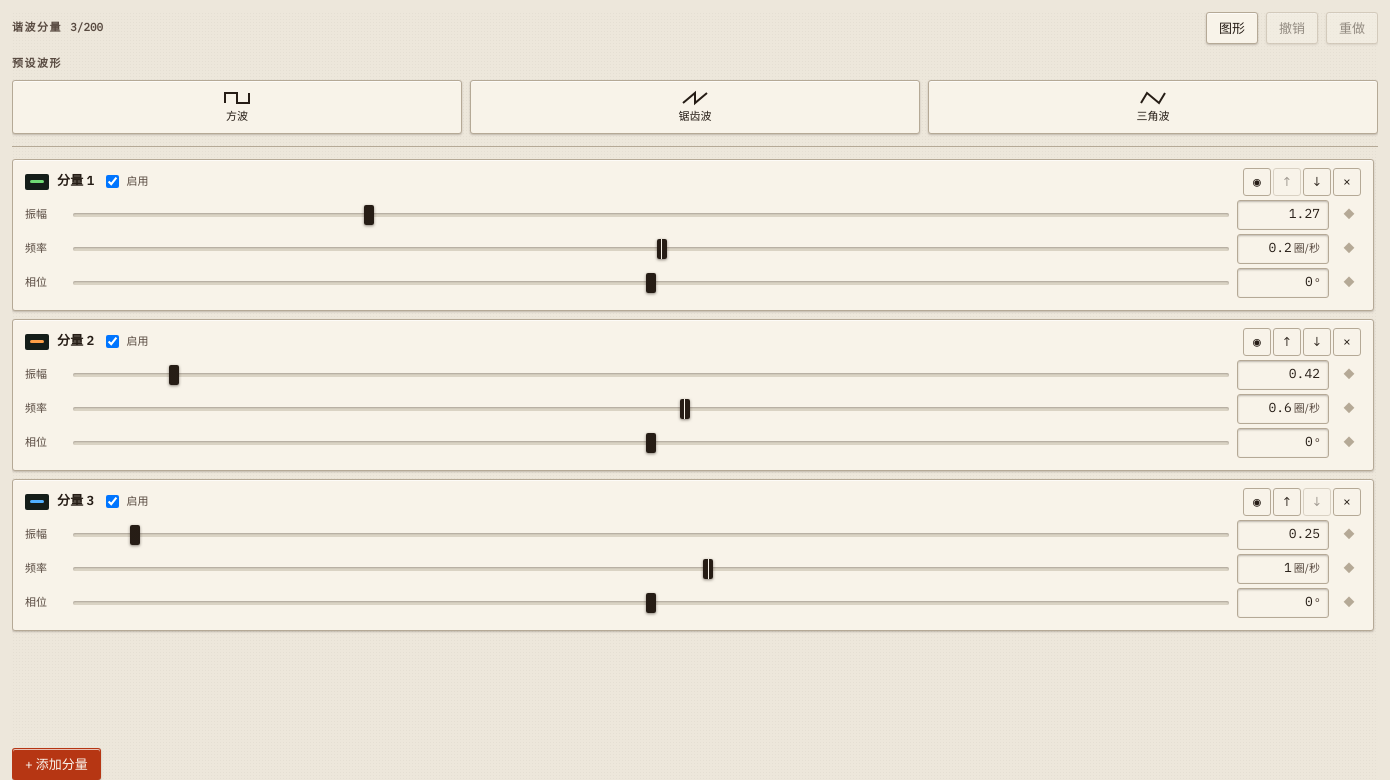
Scenario: ComponentsPanel › shows an empty state when every component is removed
Click the button named "删除分量 1" at (1347, 182), box [1333,168,1361,196]
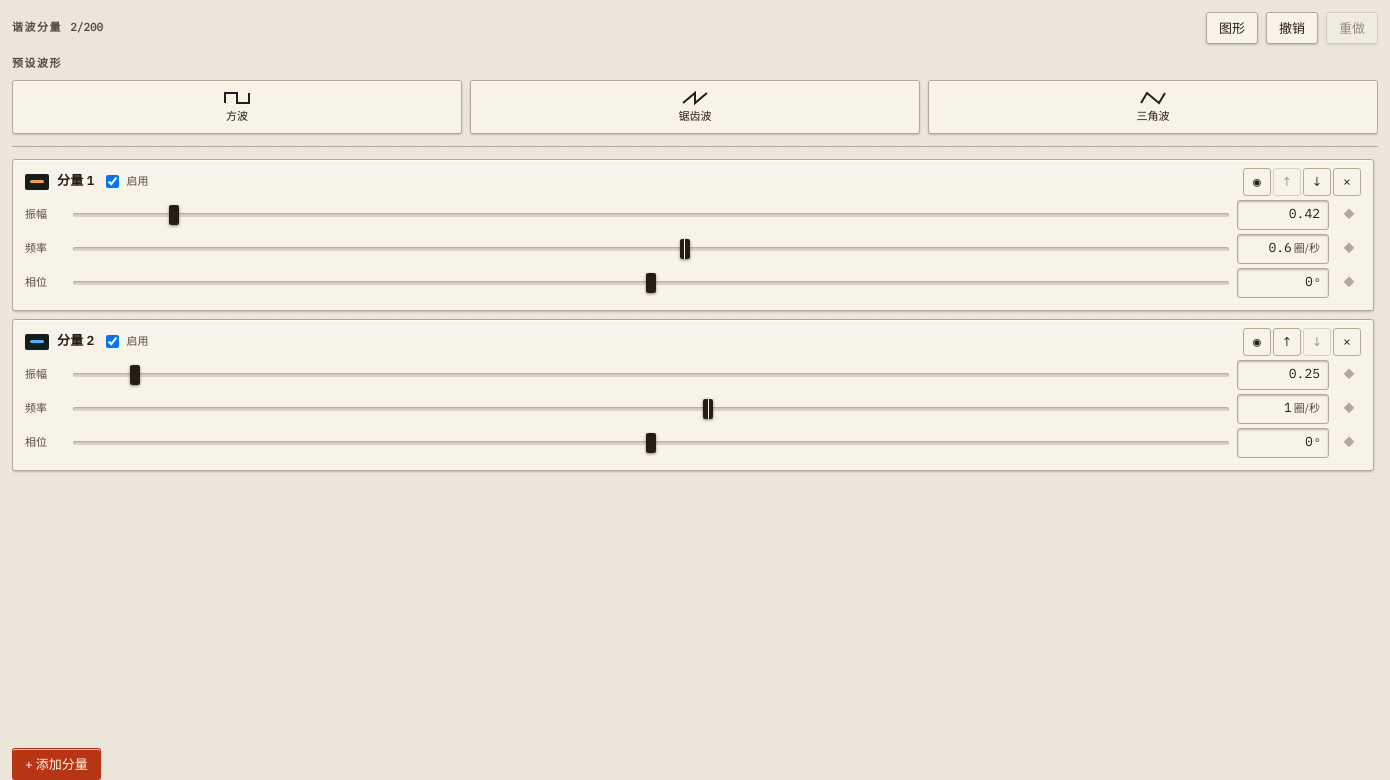
Click the button named "删除分量 1" at (1347, 182), box [1333,168,1361,196]
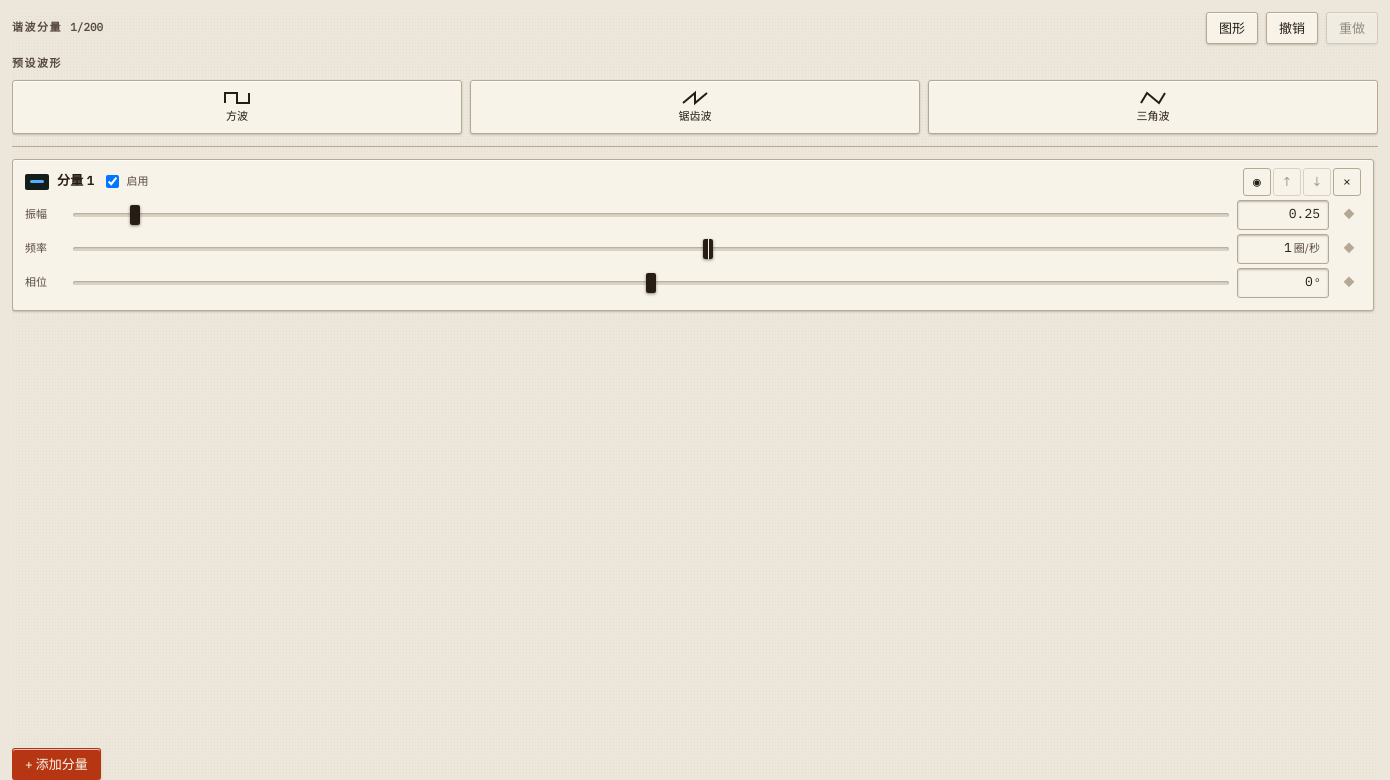
Click the button named "删除分量 1" at (1347, 182), box [1333,168,1361,196]
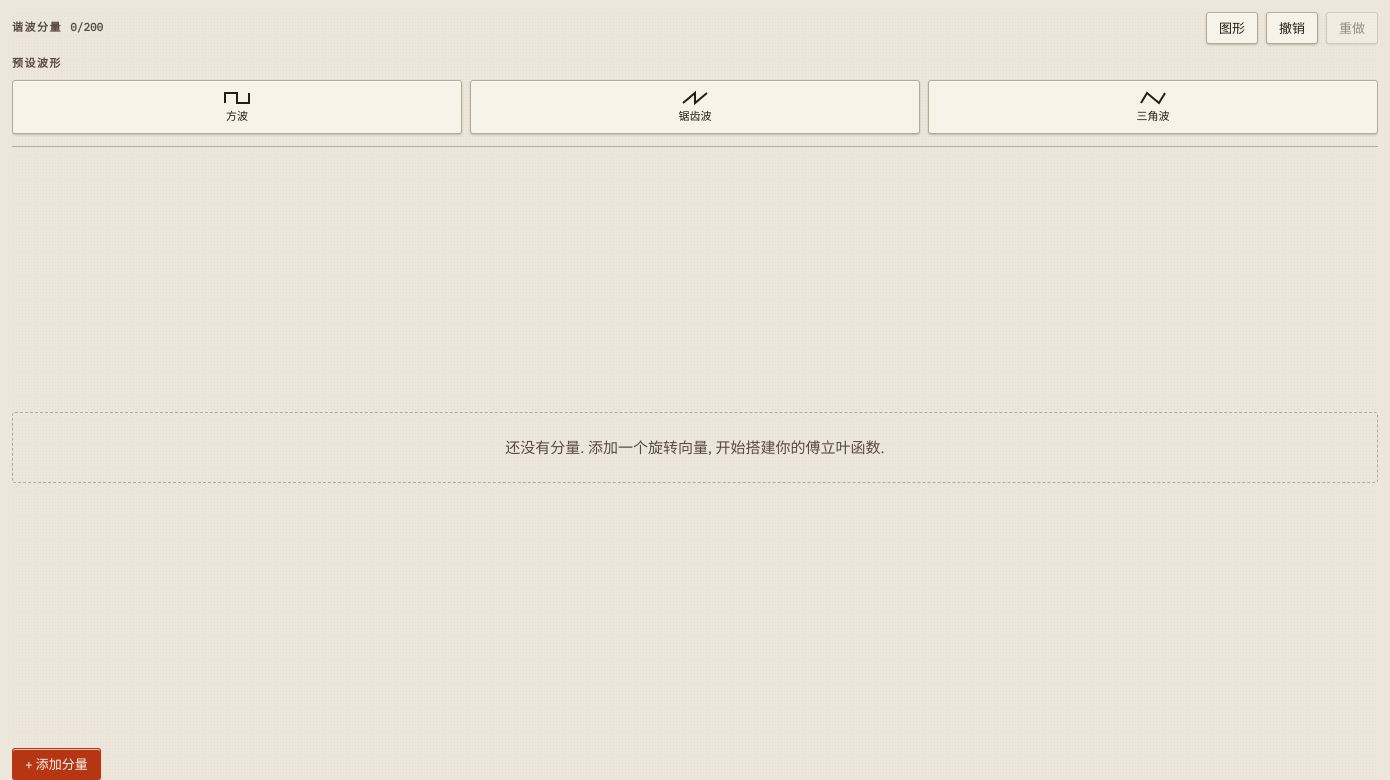
Check: the text "还没有分量. 添加一个旋转向量, 开始搭建你的傅立叶函数." is shown, box [12,412,1378,483]
